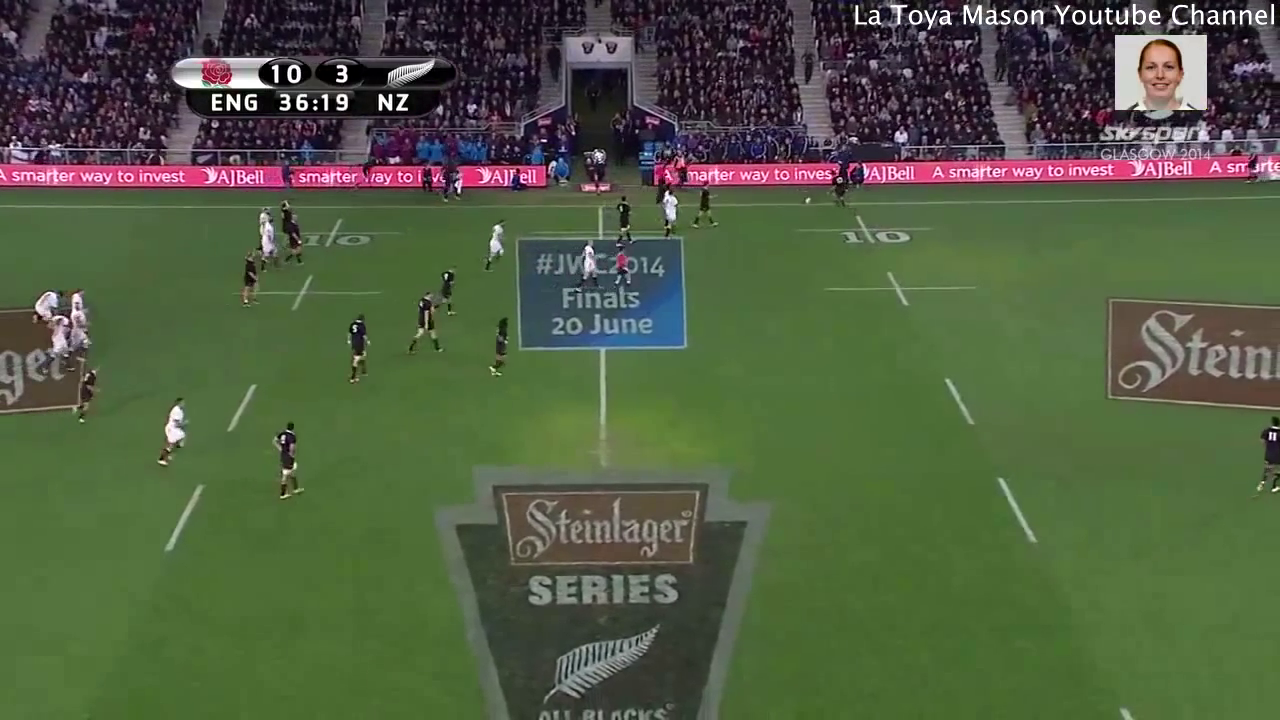10_metre: (815, 265, 978, 312), (230, 273, 387, 315), (788, 211, 938, 253), (277, 216, 408, 254)
ball: (801, 196, 813, 208)
player: (152, 392, 193, 477), (270, 420, 311, 505), (407, 289, 447, 359), (342, 309, 379, 384), (68, 358, 107, 426), (1254, 411, 1280, 499), (42, 314, 75, 365), (238, 250, 265, 311), (573, 238, 603, 292), (428, 265, 458, 318), (481, 218, 509, 274), (487, 316, 511, 378), (693, 176, 718, 230), (33, 285, 65, 325), (613, 193, 636, 248), (285, 213, 305, 269), (70, 301, 90, 354), (613, 245, 635, 290), (662, 186, 680, 241), (825, 173, 849, 210), (262, 216, 278, 271), (67, 284, 91, 310), (276, 197, 292, 228), (256, 205, 270, 235)
